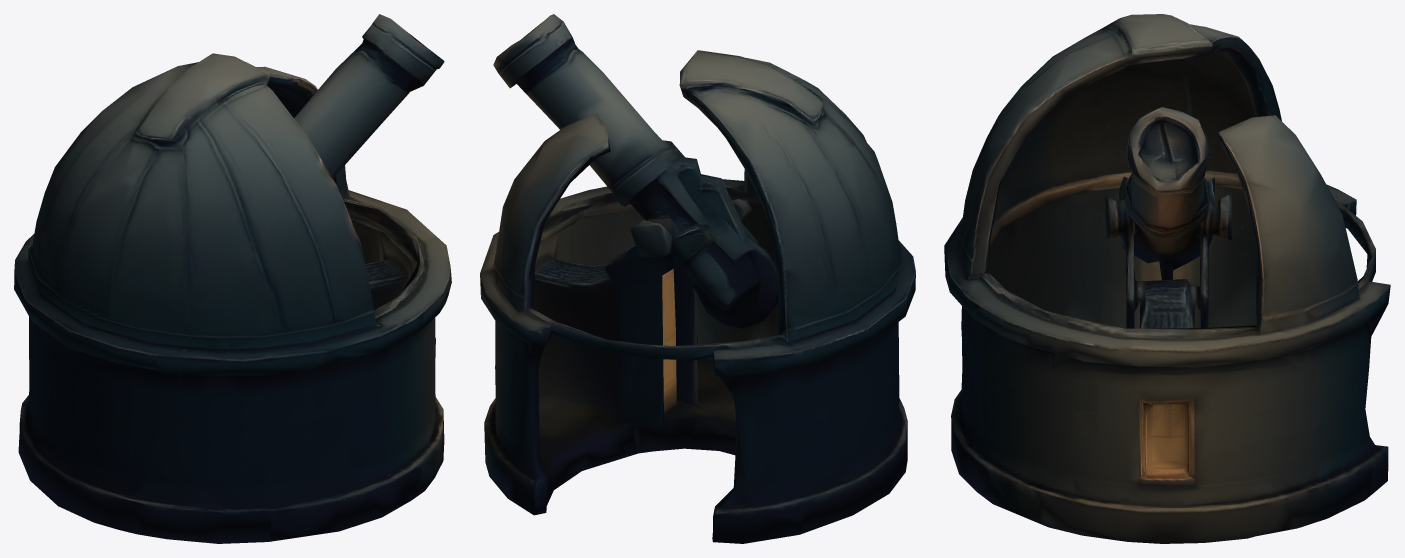
The model's file is obserwatorium.glb.
The picture shows the model from 3 angles, left to right: view 1: azimuth 30°, elevation 25°; view 2: azimuth 150°, elevation 25°; view 3: azimuth 270°, elevation 25°; orthographic projection. The views are drawn at different scales.
Parts seen in each view (by area): view 1: tripo_node_9dd7d07c-58bc-4370-8569-9a224ca49815; view 2: tripo_node_9dd7d07c-58bc-4370-8569-9a224ca49815; view 3: tripo_node_9dd7d07c-58bc-4370-8569-9a224ca49815.
Part boxes in pixels (x1,y1,x2,y2): tripo_node_9dd7d07c-58bc-4370-8569-9a224ca49815: (14, 14, 451, 543); tripo_node_9dd7d07c-58bc-4370-8569-9a224ca49815: (480, 14, 915, 543); tripo_node_9dd7d07c-58bc-4370-8569-9a224ca49815: (944, 14, 1390, 543).
Size of the model in its own units: 1 by 0.9758 by 0.9374.
1 material, 1 textured.
